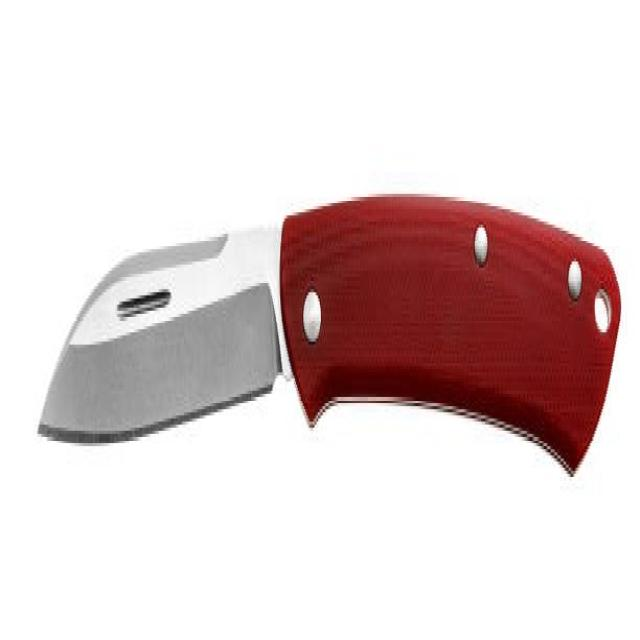knife: (39, 165, 625, 510)
